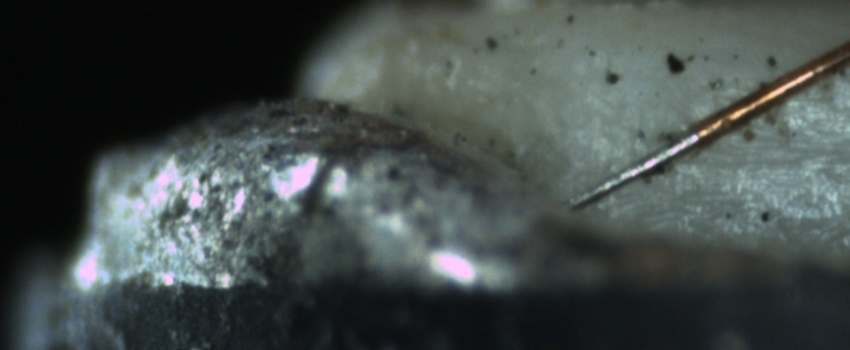DL: (690, 124, 850, 188)
TS: (568, 130, 701, 211)
